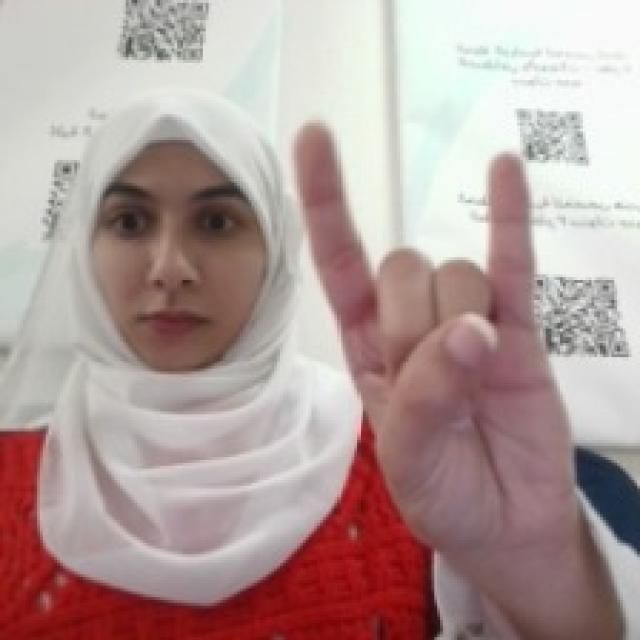No: (289, 77, 574, 560)
